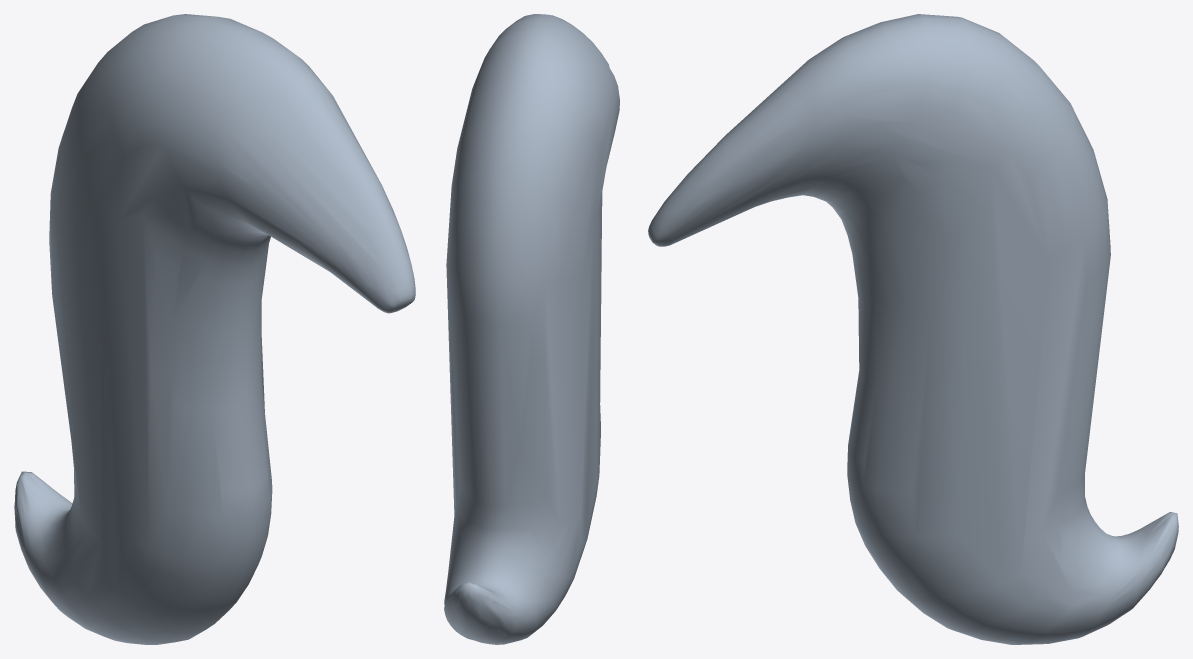
File: Tail_14.fbx
The picture shows the model from 3 angles, left to right: view 1: azimuth 30°, elevation 25°; view 2: azimuth 150°, elevation 25°; view 3: azimuth 270°, elevation 25°; orthographic projection. The views are drawn at different scales.
Parts seen in each view (by area): view 1: Tail_14; view 2: Tail_14; view 3: Tail_14.
Boxes of the visible parts, x1,y1,x2,y2 form: Tail_14: (14,14,415,644); Tail_14: (444,14,619,644); Tail_14: (648,14,1178,644).
Size of the model in its own units: 66.7 by 241 by 183.
